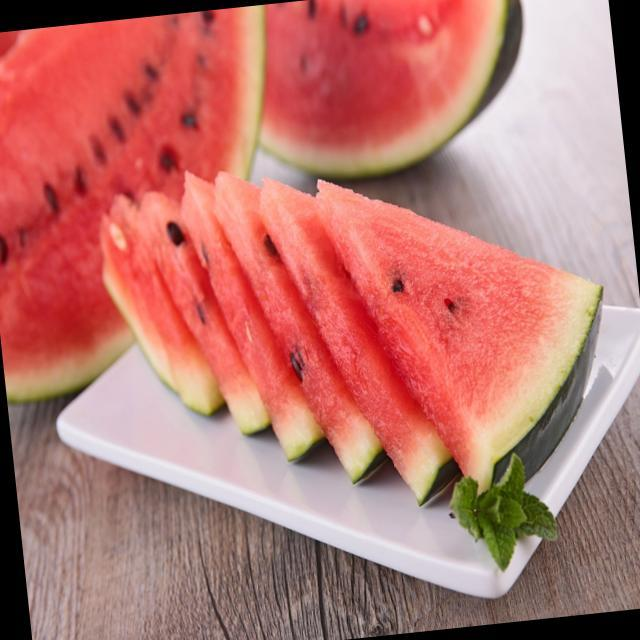APPLE: (317, 148, 624, 484)
WATERMELON: (0, 5, 292, 401), (318, 145, 628, 498), (270, 188, 488, 536), (260, 0, 549, 198)
